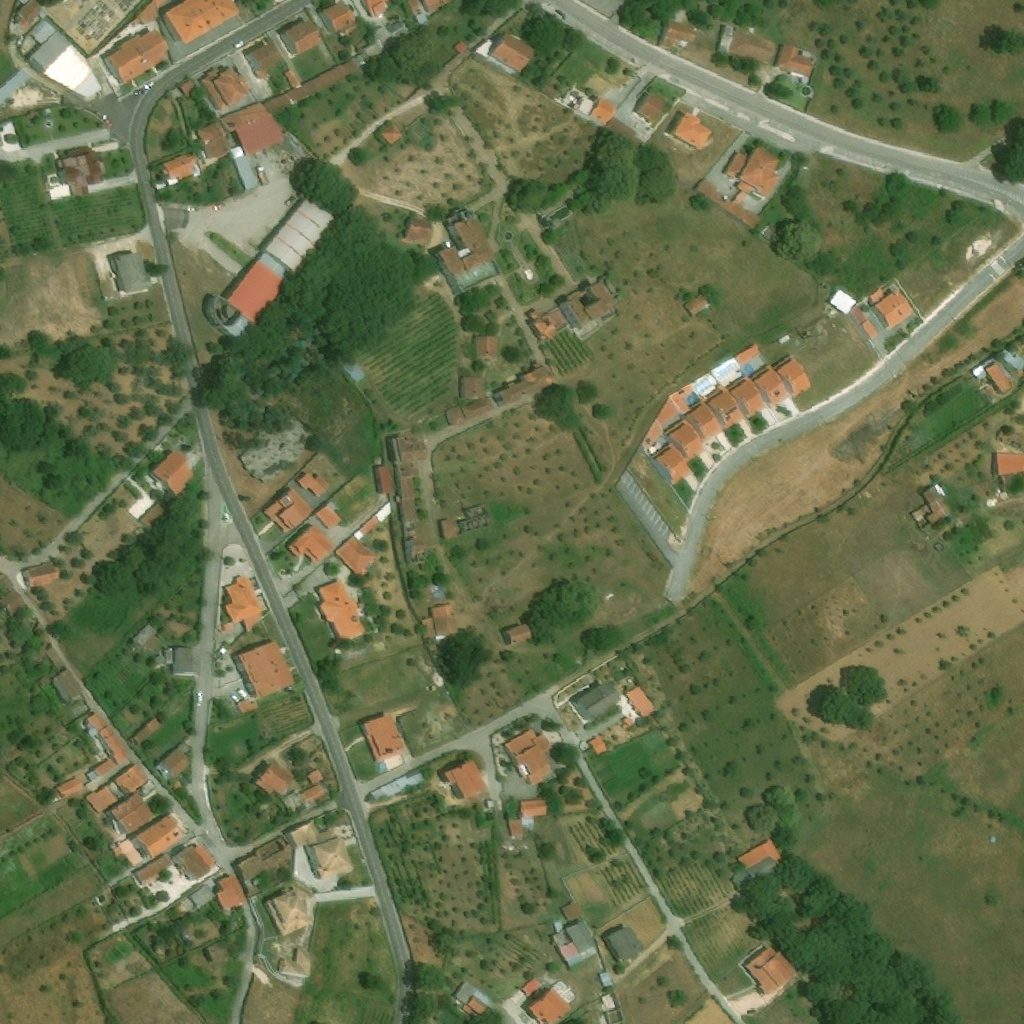0 no-damage: (206, 194, 361, 356), (18, 17, 103, 98), (527, 276, 620, 344), (231, 637, 298, 703), (289, 820, 358, 880), (435, 215, 499, 277), (86, 762, 159, 816), (104, 28, 172, 84), (162, 0, 243, 47), (722, 143, 785, 203), (393, 430, 432, 523), (694, 177, 762, 230), (316, 577, 370, 643), (219, 101, 285, 154), (82, 713, 130, 782), (502, 727, 556, 788), (742, 944, 801, 998), (827, 285, 879, 341), (134, 810, 191, 860), (476, 30, 536, 77), (497, 362, 558, 408), (519, 977, 578, 1023), (237, 833, 294, 880), (262, 486, 317, 534), (53, 147, 105, 197), (360, 710, 409, 763), (199, 64, 251, 113), (717, 25, 778, 66), (224, 571, 265, 632), (264, 888, 313, 938), (570, 681, 625, 724), (551, 921, 601, 968), (151, 447, 196, 499), (174, 836, 222, 884), (111, 793, 162, 838), (109, 250, 156, 297), (737, 838, 783, 885), (867, 286, 915, 331), (285, 522, 337, 563), (671, 107, 715, 151), (662, 417, 707, 460), (336, 534, 381, 577), (443, 758, 489, 800), (604, 924, 648, 966), (651, 442, 692, 486), (251, 756, 297, 795), (243, 39, 285, 81), (279, 17, 323, 57), (754, 363, 793, 408), (708, 384, 746, 430), (686, 398, 724, 442), (731, 374, 767, 420), (443, 397, 495, 428), (509, 799, 549, 839), (422, 601, 461, 641), (196, 120, 234, 161), (778, 355, 815, 397), (922, 482, 956, 527), (656, 19, 699, 53), (277, 946, 314, 983), (215, 871, 249, 910), (775, 45, 815, 78), (124, 0, 165, 32), (134, 853, 176, 884), (52, 668, 87, 705), (156, 746, 193, 781), (156, 647, 198, 676), (161, 153, 199, 184), (625, 684, 658, 719), (319, 1, 356, 32), (130, 714, 165, 745), (985, 360, 1016, 395), (24, 561, 61, 590), (11, 0, 44, 32), (296, 469, 332, 498), (635, 90, 668, 121), (129, 621, 161, 652), (0, 70, 29, 104), (403, 214, 435, 244), (501, 621, 534, 648), (589, 96, 619, 125), (451, 977, 481, 1005), (141, 502, 171, 530), (54, 775, 87, 800), (0, 589, 29, 617), (684, 291, 713, 317), (188, 882, 216, 908), (992, 453, 1023, 475), (316, 504, 343, 529), (405, 537, 427, 565), (374, 464, 395, 493), (380, 121, 405, 145), (46, 647, 70, 672), (300, 783, 328, 804), (475, 335, 500, 358), (459, 374, 482, 398), (440, 518, 461, 541), (587, 734, 610, 755), (560, 902, 583, 923), (737, 344, 761, 364), (177, 77, 198, 98), (469, 996, 490, 1016), (285, 70, 304, 91), (306, 768, 327, 785), (359, 517, 378, 535), (578, 96, 595, 114), (236, 697, 253, 715), (602, 993, 618, 1011), (599, 970, 614, 989), (620, 716, 634, 730), (971, 363, 985, 377), (453, 40, 468, 53)
3 destroyed: (198, 498, 215, 528)
4 un-classified: (549, 833, 577, 868), (0, 118, 22, 153), (204, 936, 232, 962), (997, 428, 1023, 450), (361, 0, 389, 18), (421, 0, 455, 14), (183, 407, 201, 423), (406, 0, 423, 14), (989, 500, 1007, 508)
